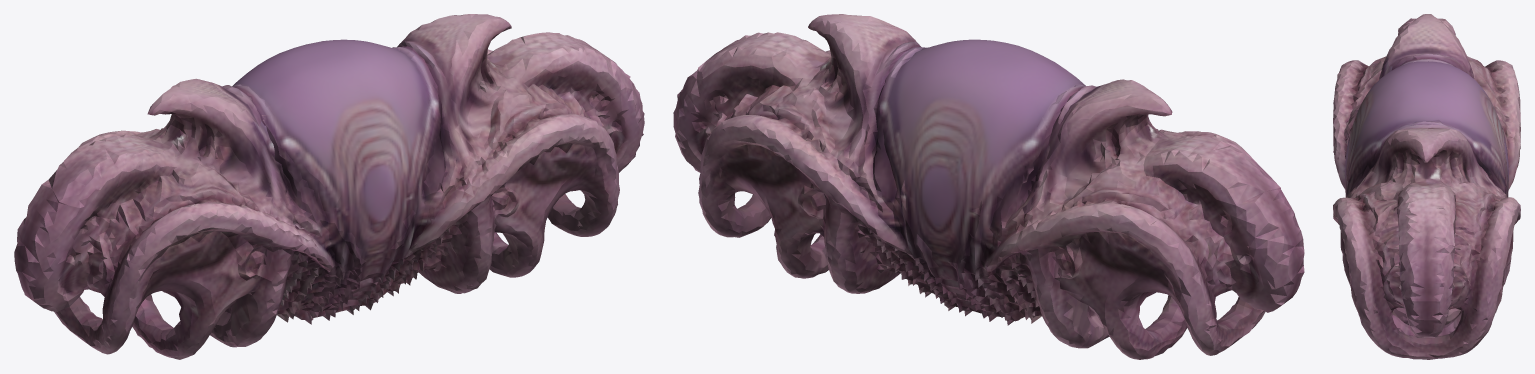
File: kraken_hull.glb
3 views of the same model, side by side, from view 1: azimuth 30°, elevation 25°; view 2: azimuth 150°, elevation 25°; view 3: azimuth 270°, elevation 25° (orthographic). The views are drawn at different scales.
Parts seen in each view (by area): view 1: kraken_hull; view 2: kraken_hull; view 3: kraken_hull.
Boxes of the visible parts, x1,y1,x2,y2 form: kraken_hull: [14, 14, 644, 359]; kraken_hull: [673, 14, 1304, 359]; kraken_hull: [1333, 14, 1520, 359].
Size of the model in its own units: 1.89 by 0.7539 by 0.6183.
1 material, 1 textured.
